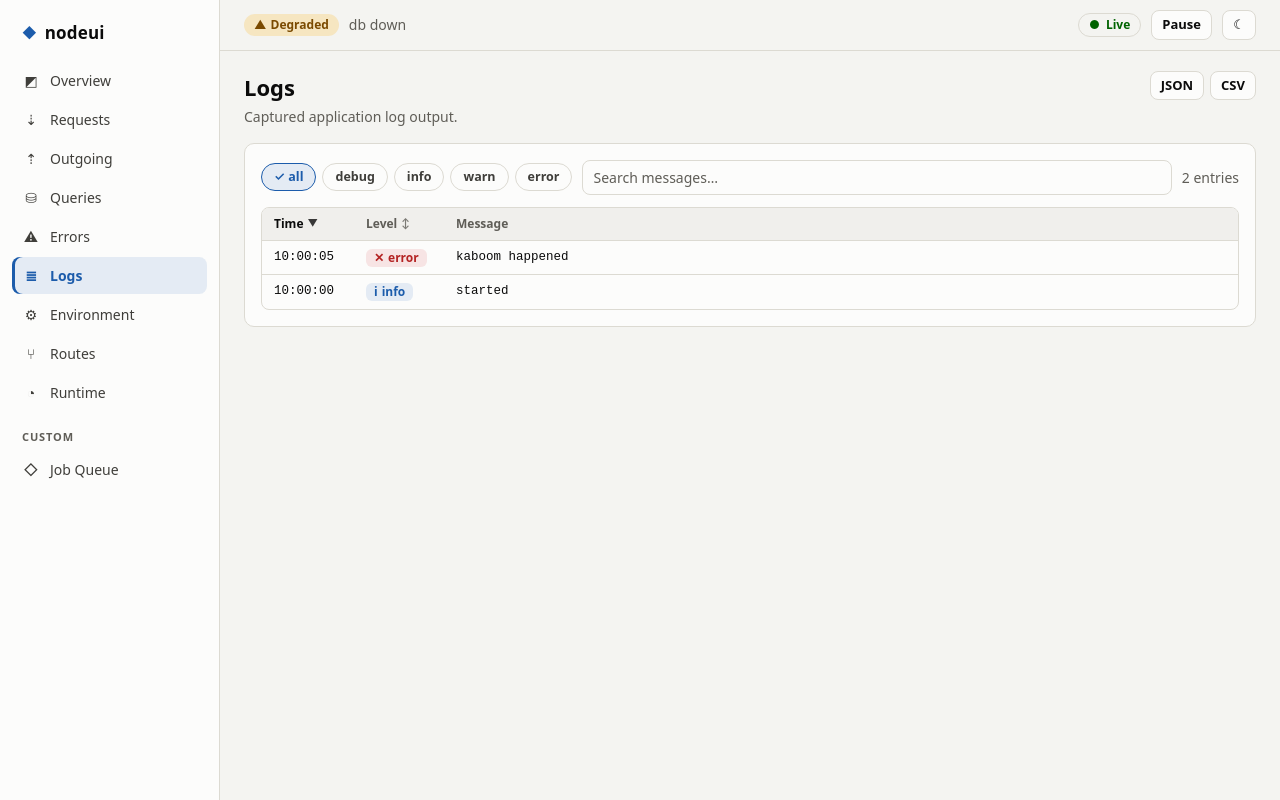
Scenario: Logs view › filters by level and search
This screenshot has width=1280, height=800.
Expected: the text "started" is shown, [444,275,1238,308]
Click the button "error" at (544, 177), box [515,163,572,191]
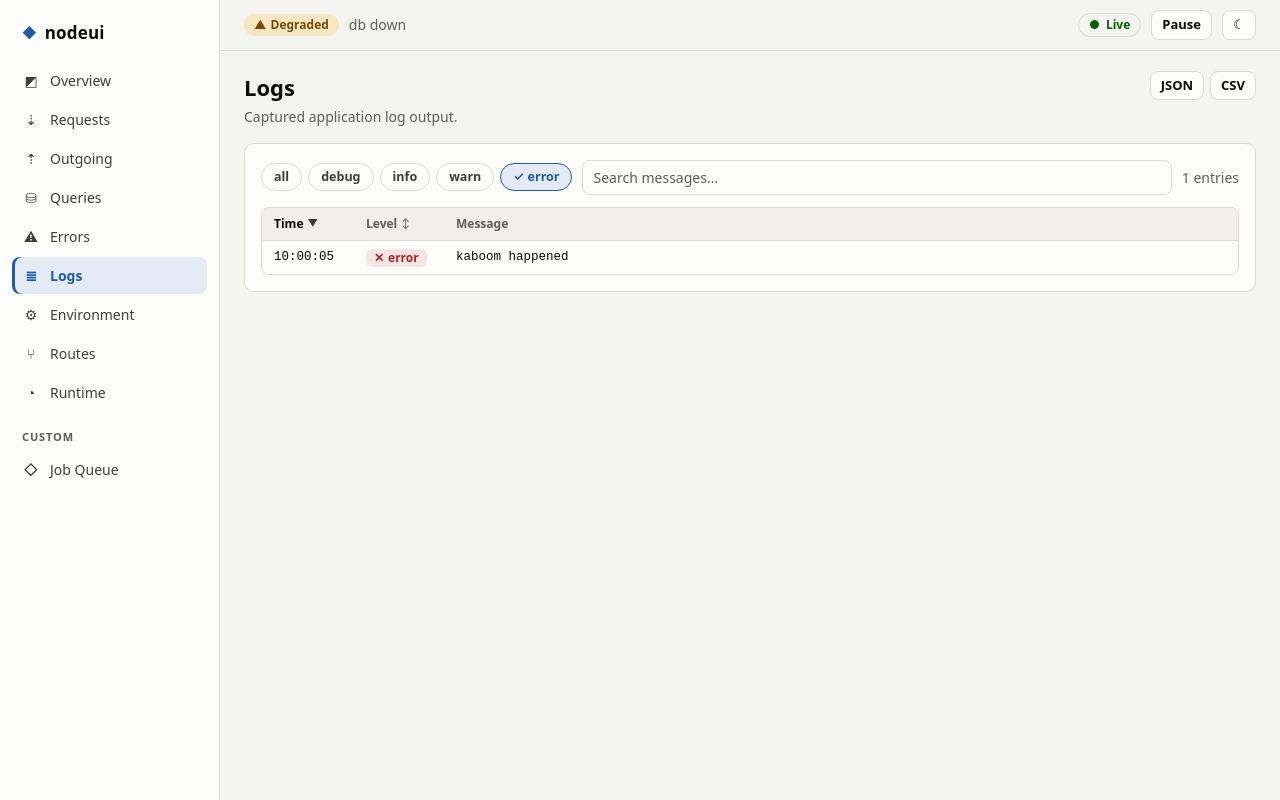
Expected: the text "kaboom happened" is shown, [444,240,1238,274]
Now the text "started" is gone
Click the button "all" at (282, 177), box [261,163,302,191]
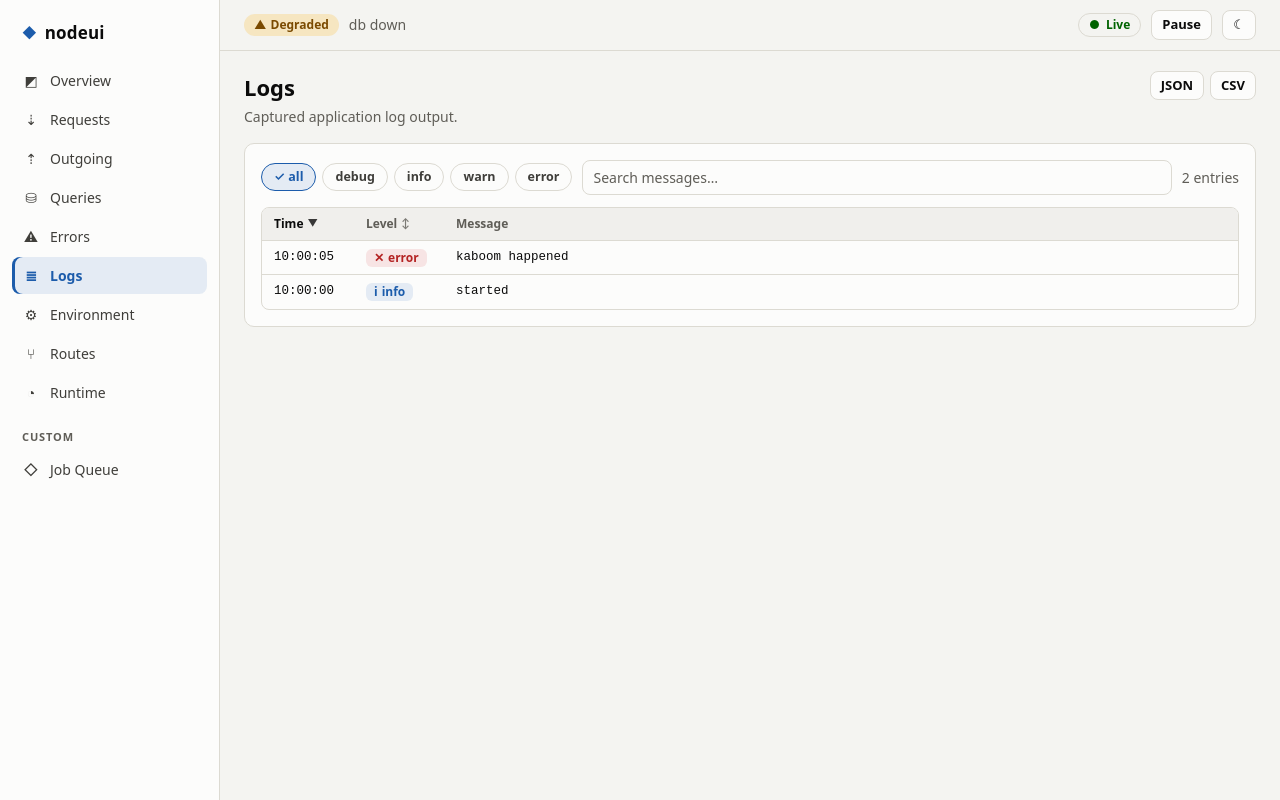
Type "start" into the search field named "Search log messages" at (877, 177), box [582,160,1172,194]
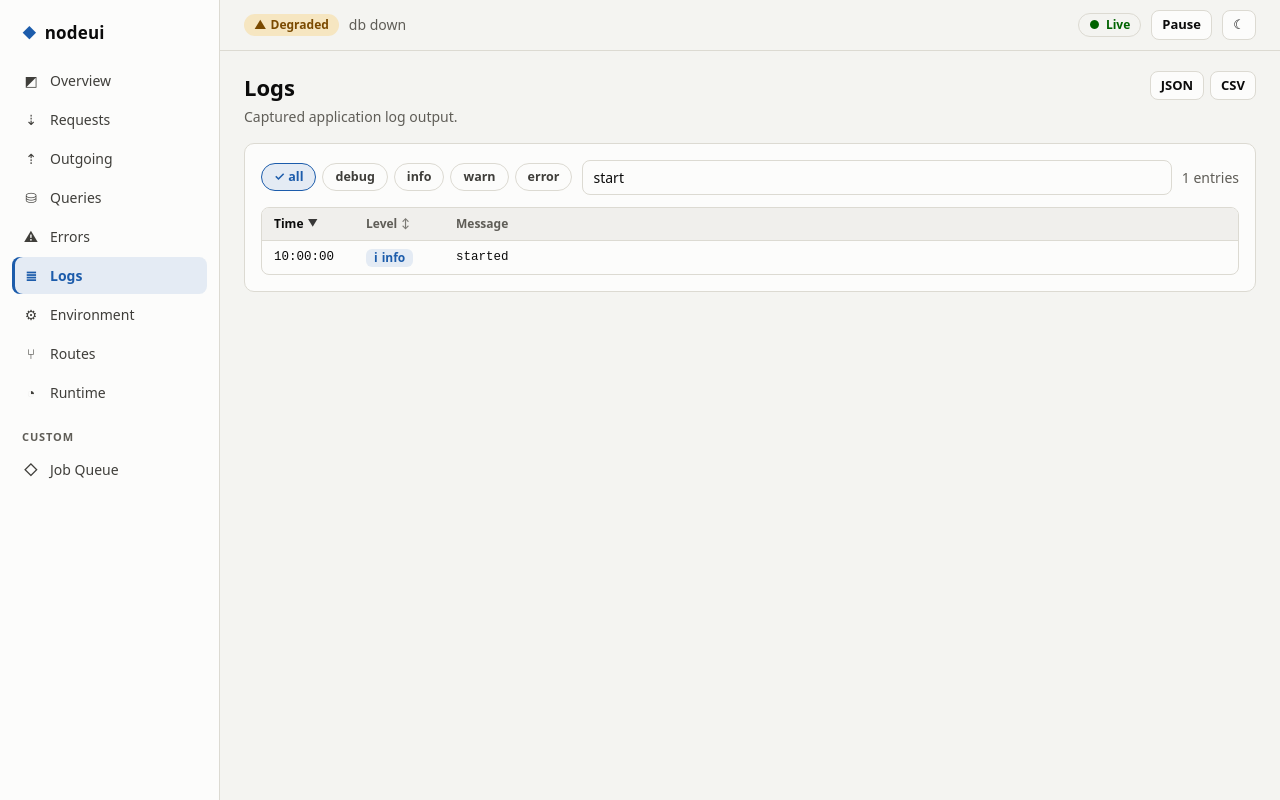
Now the text "started" is shown, box [444,240,1238,274]
Now the text "kaboom happened" is gone
Replace the text in the search field named "Search log messages" with "nothing" at (877, 177), box [582,160,1172,194]
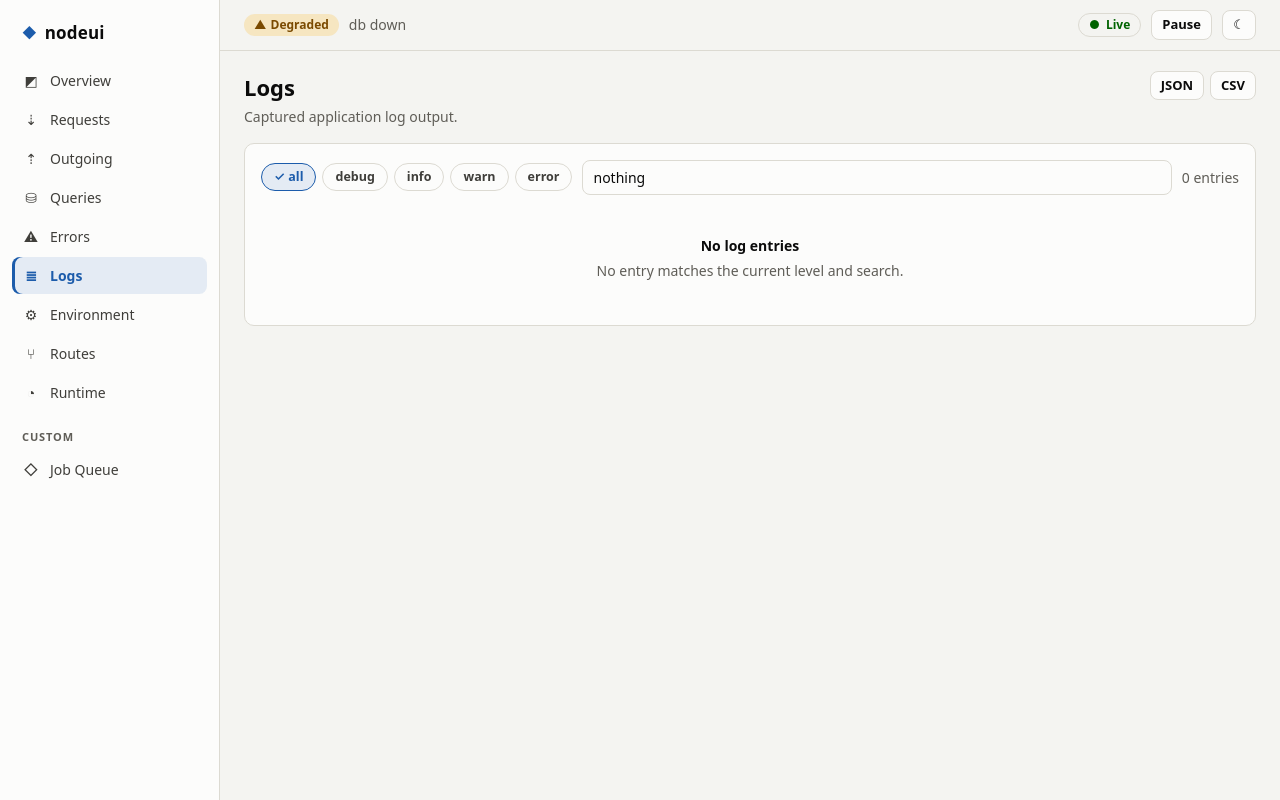
Now the text "No log entries" is shown, box [701,236,799,254]
